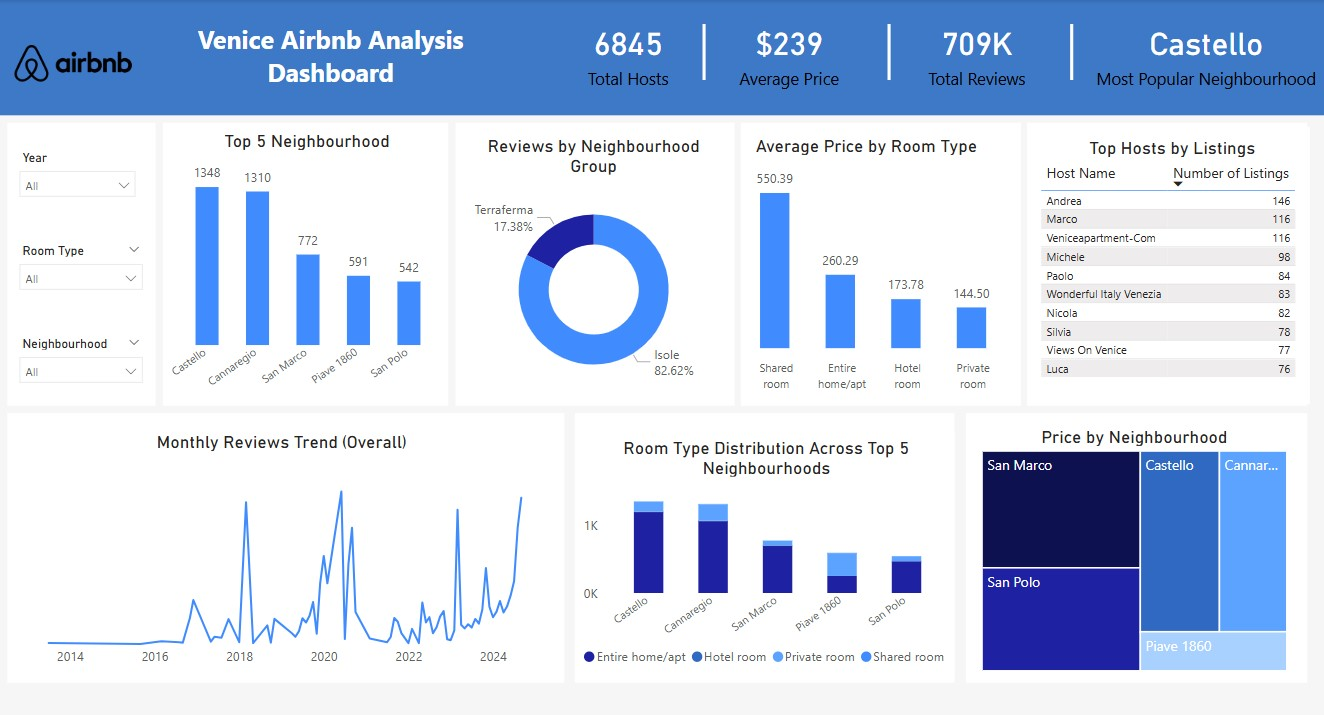

Layout of this report page (visuals, bound fields, positions):
{"tool":"powerbi","page":{"name":"Page 1","canvas":[1280,690],"ordinal":0},"visuals":[{"type":"lineChart","title":"Monthly Reviews Trend (Overall)","fields":{"Category":["listings.last_review.Variation.Date Hierarchy.Year","listings.last_review.Variation.Date Hierarchy.Month"],"Y":["listings.number_of_reviews"]},"box":[8.7,405.8,525.3,245.8],"z":0},{"type":"columnChart","title":"Top 5 Neighbourhood","fields":{"Category":["listings.neighbourhood"],"Y":["listings.neighbourhood"]},"box":[160,120.5,271.8,264.1],"z":1000},{"type":"donutChart","title":"Reviews by Neighbourhood Group","fields":{"Y":["listings.number_of_reviews"],"Category":["listings.neighbourhood_group"]},"box":[445.5,125.5,253.9,264.6],"z":2000},{"type":"columnChart","title":"Average Price by Room Type","fields":{"Y":["listings.price"],"Category":["listings.room_type"]},"box":[686.3,125.3,297.8,259.3],"z":3000},{"type":"columnChart","title":"Room Type Distribution Across Top 5 Neighbourhoods","fields":{"Category":["listings.neighbourhood"],"Series":["listings.room_type"],"Y":["listings.id"]},"box":[557.1,416.4,363.4,235.2],"z":4000},{"type":"textbox","box":[160.3,16.4,317.4,75.3],"z":5000},{"type":"card","fields":{"Values":["Measure.Total Hosts"]},"box":[543.8,9.8,123.7,81.8],"z":6000},{"type":"card","fields":{"Values":["Measure.Average Price"]},"box":[698.9,9.8,123.7,81.8],"z":7000},{"type":"card","fields":{"Values":["Measure.Total Reviews"]},"box":[859.8,9.7,163.4,81.7],"z":8000},{"type":"card","fields":{"Values":["Measure.Most Popular Neighbourhood"]},"box":[1044.4,9.8,235.6,81.8],"z":9000},{"type":"shape","box":[657,23.6,42.5,54.3],"z":10000},{"type":"shape","box":[835.7,23.6,42.5,54.3],"z":11000},{"type":"shape","box":[1012.5,23.3,41.8,54.5],"z":12000},{"type":"slicer","fields":{"Values":["listings.last_review.Variation.Date Hierarchy.Year"]},"box":[8.5,139.4,132.2,64.1],"z":13000},{"type":"slicer","fields":{"Values":["listings.room_type"]},"box":[8.5,229.7,138.7,56.9],"z":14000},{"type":"slicer","fields":{"Values":["listings.neighbourhood"]},"box":[8.5,318.7,138.7,56.9],"z":15000},{"type":"tableEx","title":"Top Hosts by Listings","fields":{"Values":["listings.host_name","listings.id"]},"box":[997.9,122.6,264.6,267.5],"z":16000},{"type":"image","box":[0,0,140.7,121.1],"z":17000},{"type":"treemap","title":"Price by Neighbourhood","fields":{"Group":["listings.neighbourhood"],"Values":["Measure.Average Price"]},"box":[941.7,405.8,303.6,245.8],"z":18000}]}

Visuals, with their boxes in screenshot pixels (x1, y1, x2, y2), scaled from the page's 1280x690 canvas onto the 1324x715 screenshot:
"Monthly Reviews Trend (Overall)" lineChart: crop(9, 421, 552, 675)
"Top 5 Neighbourhood" columnChart: crop(166, 125, 447, 399)
"Reviews by Neighbourhood Group" donutChart: crop(461, 130, 723, 404)
"Average Price by Room Type" columnChart: crop(710, 130, 1018, 399)
"Room Type Distribution Across Top 5 Neighbourhoods" columnChart: crop(576, 431, 952, 675)
textbox: crop(166, 17, 494, 95)
card - Measure.Total Hosts: crop(562, 10, 690, 95)
card - Measure.Average Price: crop(723, 10, 851, 95)
card - Measure.Total Reviews: crop(889, 10, 1058, 95)
card - Measure.Most Popular Neighbourhood: crop(1080, 10, 1323, 95)
shape: crop(680, 24, 724, 81)
shape: crop(864, 24, 908, 81)
shape: crop(1047, 24, 1091, 81)
slicer - listings.last_review.Variation.Date Hierarchy.Year: crop(9, 144, 146, 211)
slicer - listings.room_type: crop(9, 238, 152, 297)
slicer - listings.neighbourhood: crop(9, 330, 152, 389)
"Top Hosts by Listings" tableEx: crop(1032, 127, 1306, 404)
image: crop(0, 0, 146, 125)
"Price by Neighbourhood" treemap: crop(974, 421, 1288, 675)
